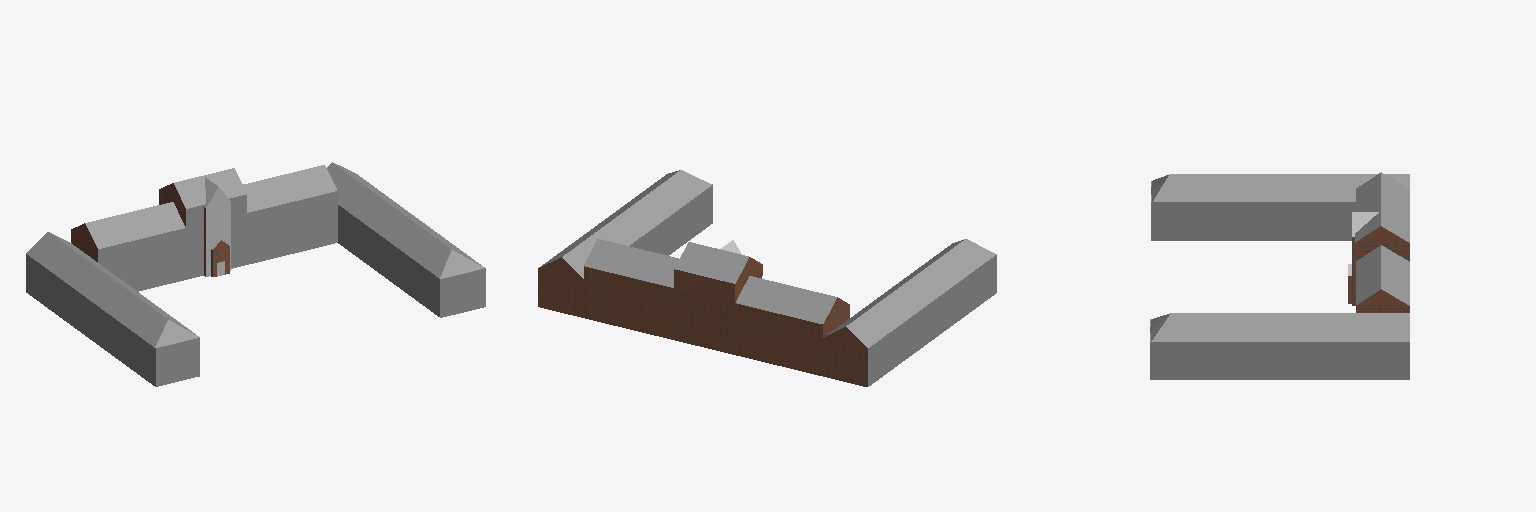
3 views of the same model, side by side, from view 1: azimuth 30°, elevation 25°; view 2: azimuth 150°, elevation 25°; view 3: azimuth 270°, elevation 25° (orthographic).
Bounding box in the file's own units: 47.99 × 12.27 × 32.76.
Materials: 9 (1 with a texture image).